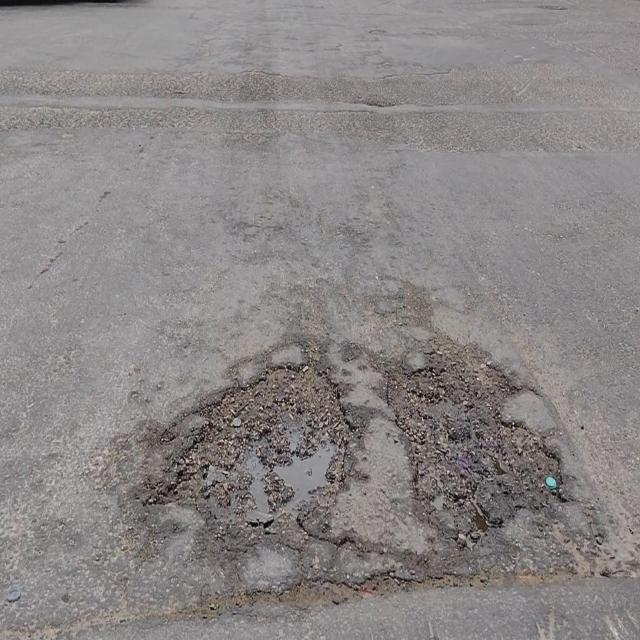Potholes: (383, 333, 567, 554), (148, 356, 354, 536)
